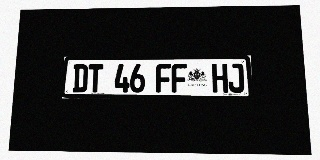4: (114, 64, 130, 93)
6: (130, 64, 145, 93)
D: (72, 64, 88, 92)
F: (156, 64, 171, 93), (172, 64, 187, 93)
H: (212, 64, 228, 93)
J: (228, 64, 244, 93)
T: (88, 64, 103, 92)
